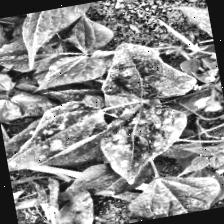Bean Rust: (0, 91, 113, 175), (96, 95, 198, 186), (94, 32, 199, 109)
